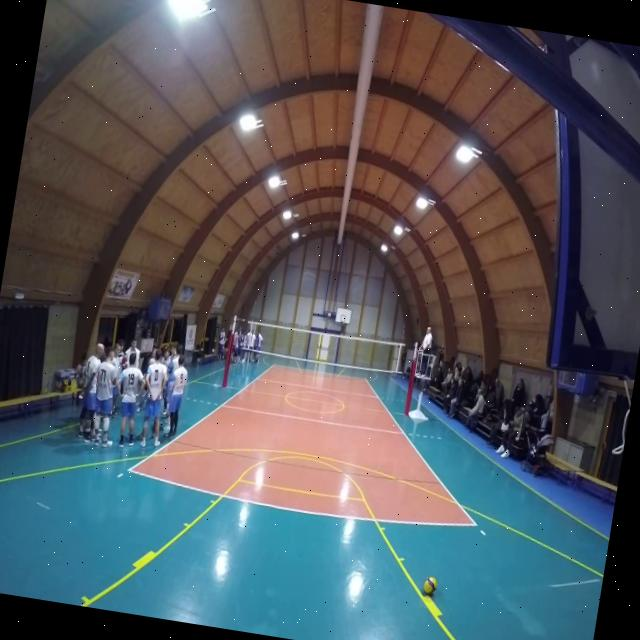Volleyball: (422, 578, 438, 600)
